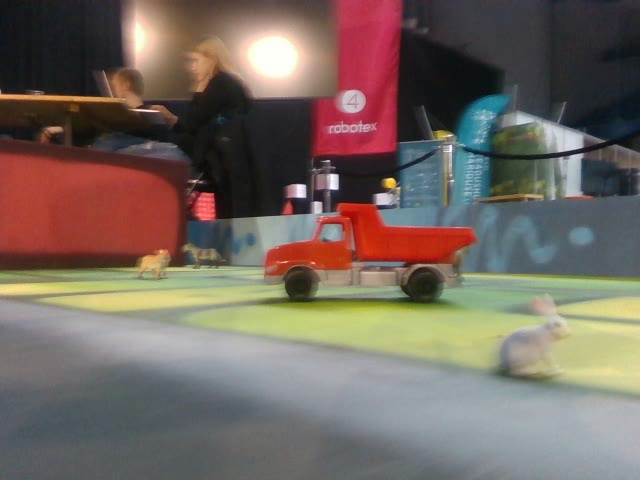toy: (492, 292, 573, 378), (182, 243, 227, 270), (137, 248, 170, 281)
